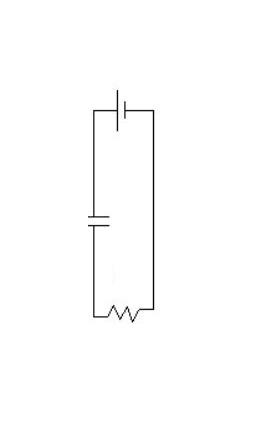resistor: (93, 298, 153, 326)
